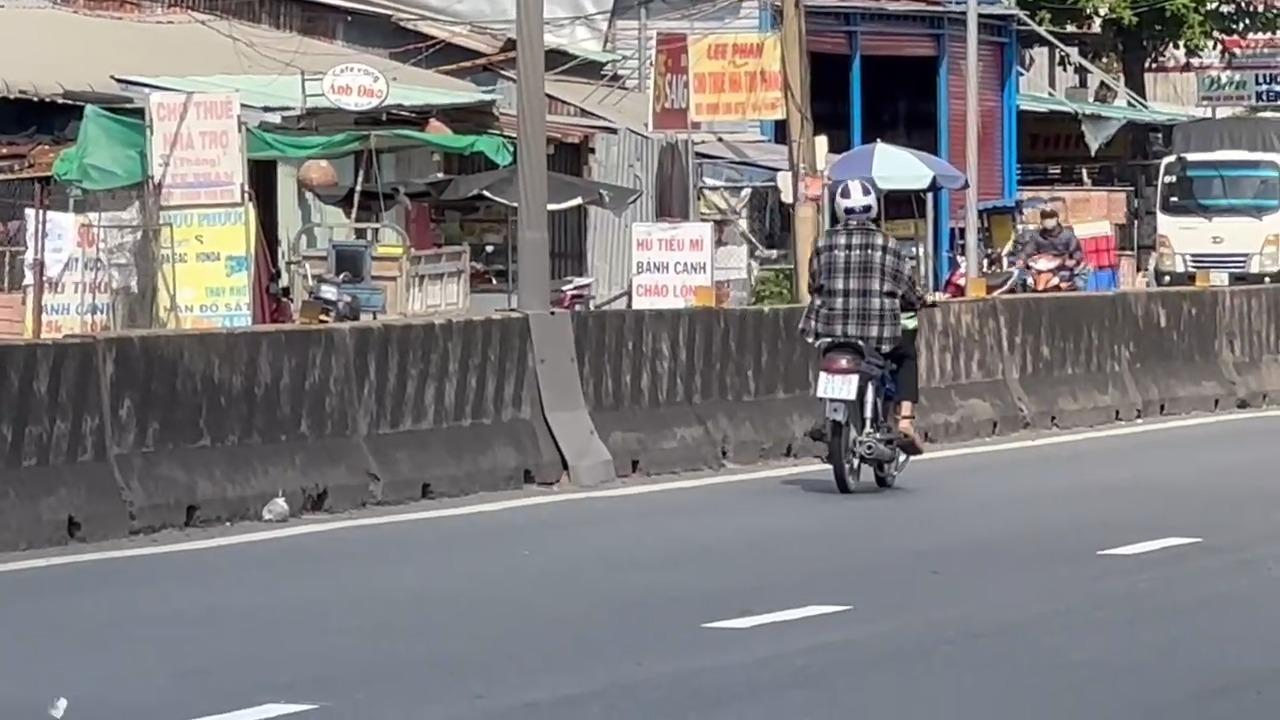bien_so: (814, 369, 859, 401)
